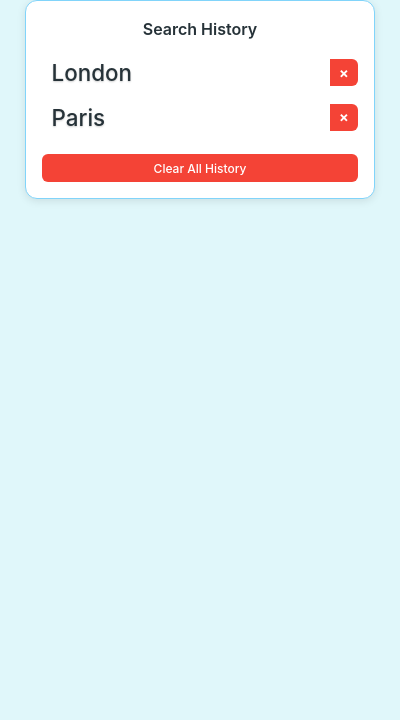
it: HistoryList › shows undo snackbar when a city is deleted
Step 1. Click the button named "remove london from history" → x=344, y=73, box [330,59,358,86]
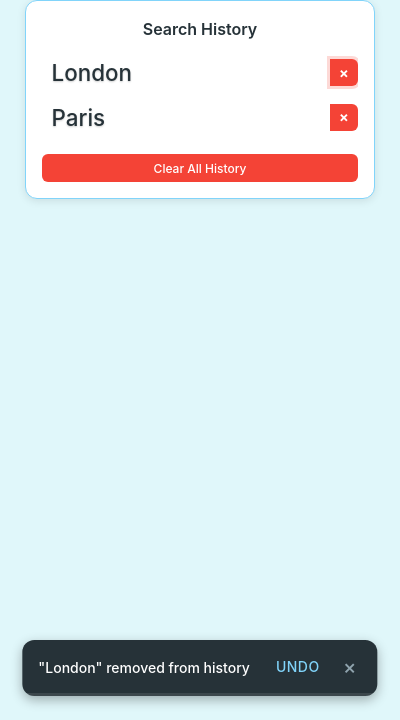
Expected: the text "\"London\" removed from history" is shown, [38,658,250,676]
Expected: the button with aria-label "Undo last action" is shown, [266,652,330,681]
Expected: the button named "Close notification" is shown, [338,654,362,678]
